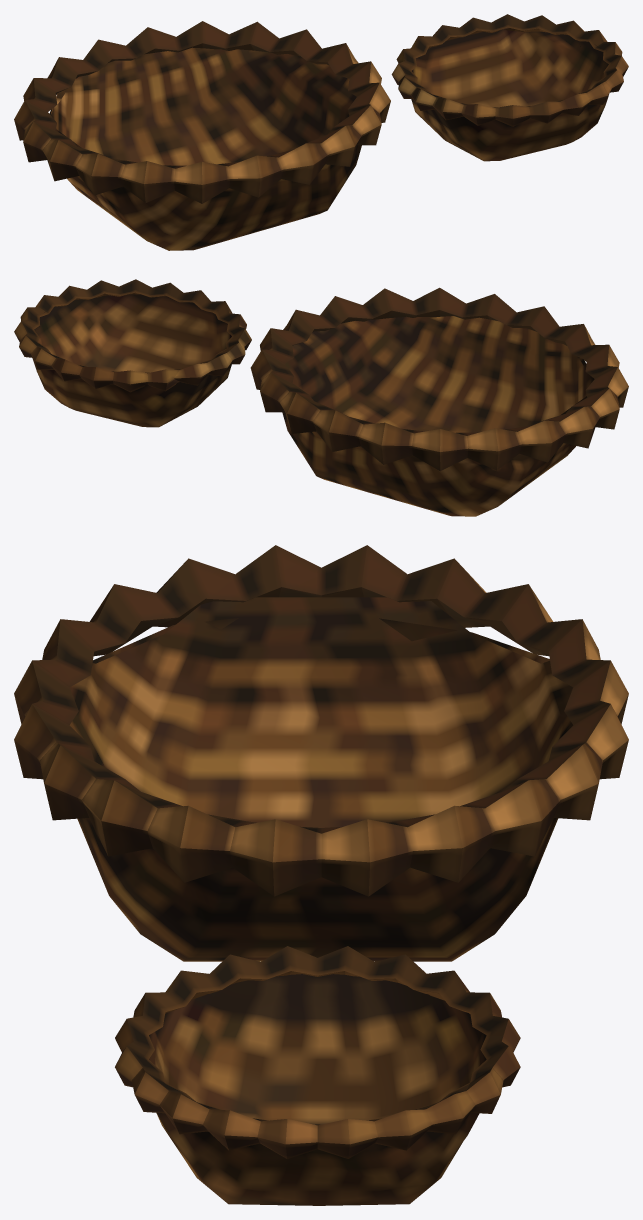
Rendered from EnvObjMD_Basket_A_M.FBX.
3 views of the same model, one above another, from view 1: azimuth 30°, elevation 25°; view 2: azimuth 150°, elevation 25°; view 3: azimuth 270°, elevation 25° (orthographic). The views are drawn at different scales.
Parts seen in each view (by area): view 1: EnvObjMD_Basket_A_M, EnvObjMD_Basket_A_S; view 2: EnvObjMD_Basket_A_M, EnvObjMD_Basket_A_S; view 3: EnvObjMD_Basket_A_M, EnvObjMD_Basket_A_S.
Part boxes in pixels (x1,y1,x2,y2): EnvObjMD_Basket_A_M: (14, 21, 390, 250); EnvObjMD_Basket_A_S: (391, 14, 628, 161); EnvObjMD_Basket_A_M: (250, 287, 628, 516); EnvObjMD_Basket_A_S: (14, 279, 251, 427); EnvObjMD_Basket_A_M: (14, 545, 628, 961); EnvObjMD_Basket_A_S: (115, 946, 520, 1205).
Size of the model in its own units: 202 by 40.39 by 103.
Materials: 1 (1 with a texture image).
